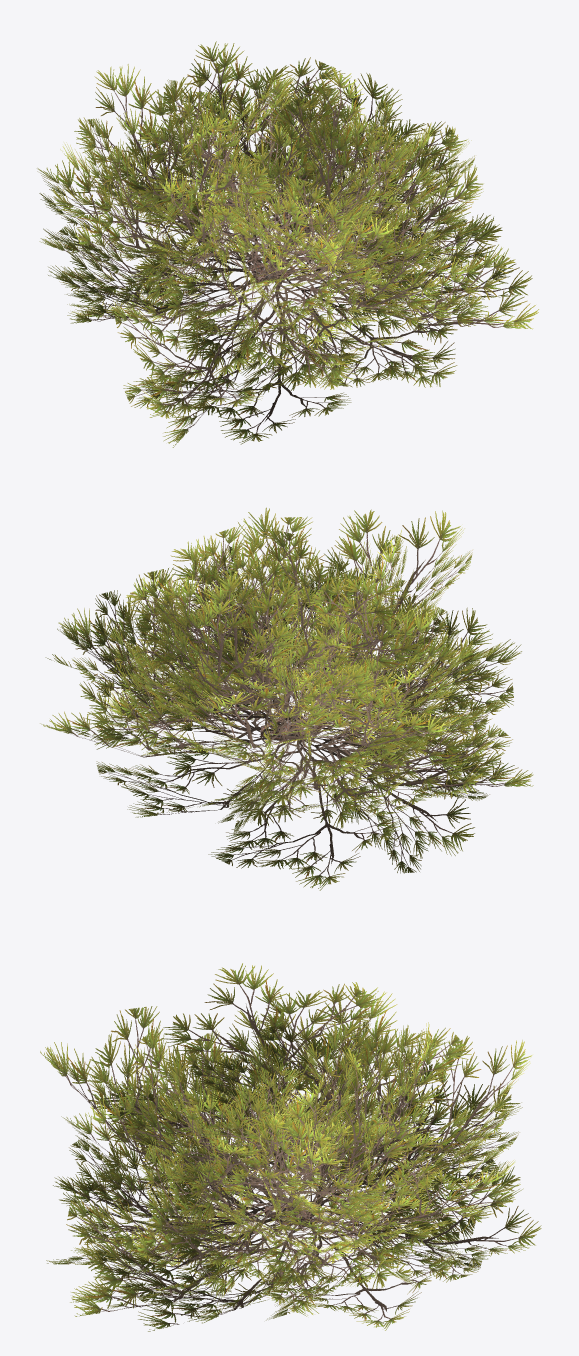
File: Bush_1.fbx
3 views of the same model, one above another, from view 1: azimuth 30°, elevation 25°; view 2: azimuth 150°, elevation 25°; view 3: azimuth 270°, elevation 25° (orthographic). The views are drawn at different scales.
Parts seen in each view (by area): view 1: Tree_1; view 2: Tree_1, Tree_0; view 3: Tree_1, Tree_0.
Boxes of the visible parts, x1,y1,x2,y2 form: Tree_1: (37,41,538,447); Tree_1: (40,507,533,890); Tree_0: (260,712,320,742); Tree_1: (40,963,541,1331); Tree_0: (264,1196,324,1227).
Size of the model in its own units: 55.19 by 40.01 by 53.9.
Materials: 2 (2 with a texture image).
